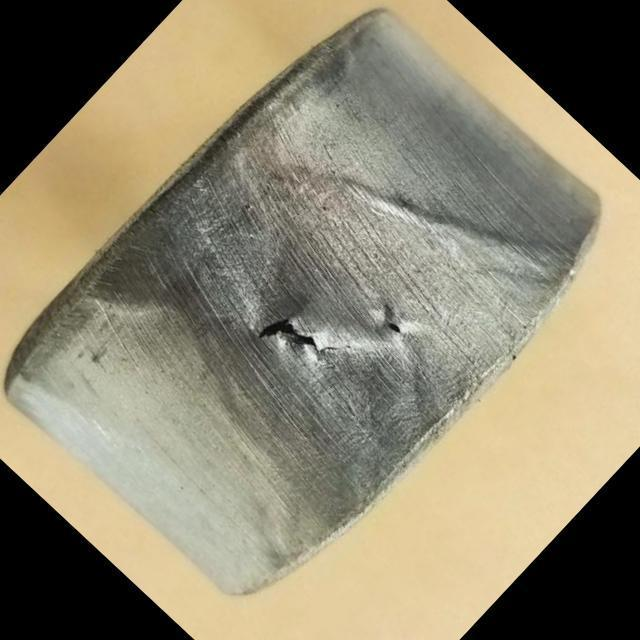defect: (248, 311, 355, 356)
